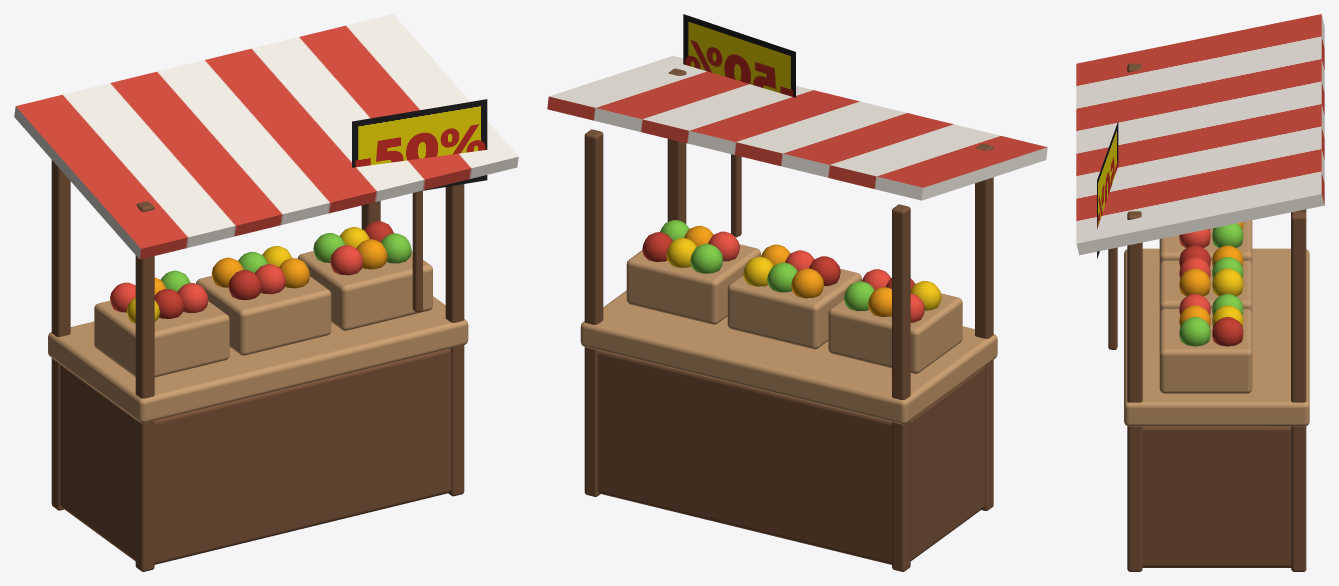
The model's file is etal_marche.glb.
3 views of the same model, side by side, from view 1: azimuth 30°, elevation 25°; view 2: azimuth 150°, elevation 25°; view 3: azimuth 270°, elevation 25° (orthographic). The views are drawn at different scales.
Visible parts, largest first — view 1: stall; view 2: stall; view 3: stall.
Boxes of the visible parts, x1,y1,x2,y2 form: stall: (14,14,518,571); stall: (547,14,1047,571); stall: (1076,14,1324,571).
Size of the model in its own units: 3.9 by 4 by 2.27.
12 materials, 4 textured.
